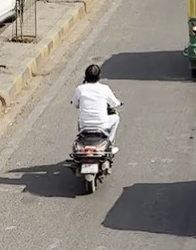BikeWithRider: (65, 61, 126, 195)
NoHelmet: (79, 61, 105, 86)
